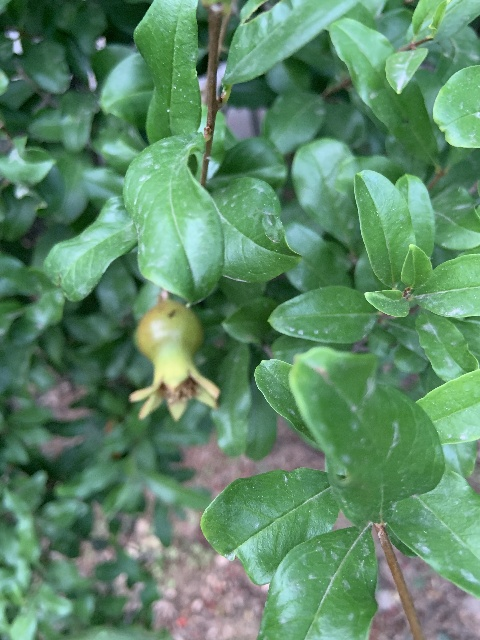early-fruit: (127, 299, 220, 423)
